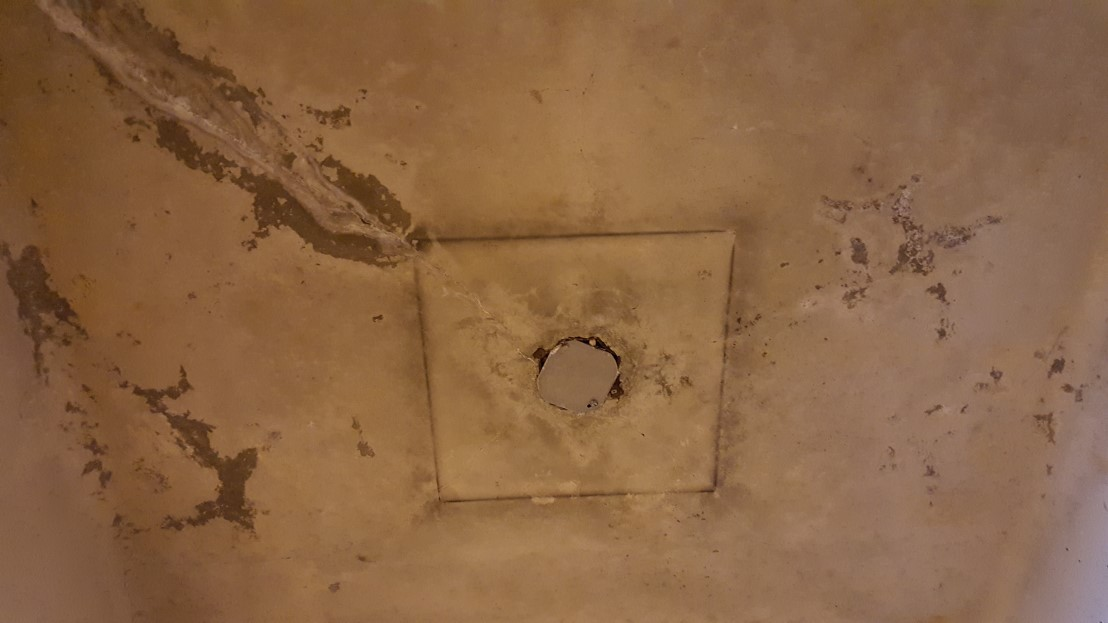Crack: (31, 0, 547, 360)
